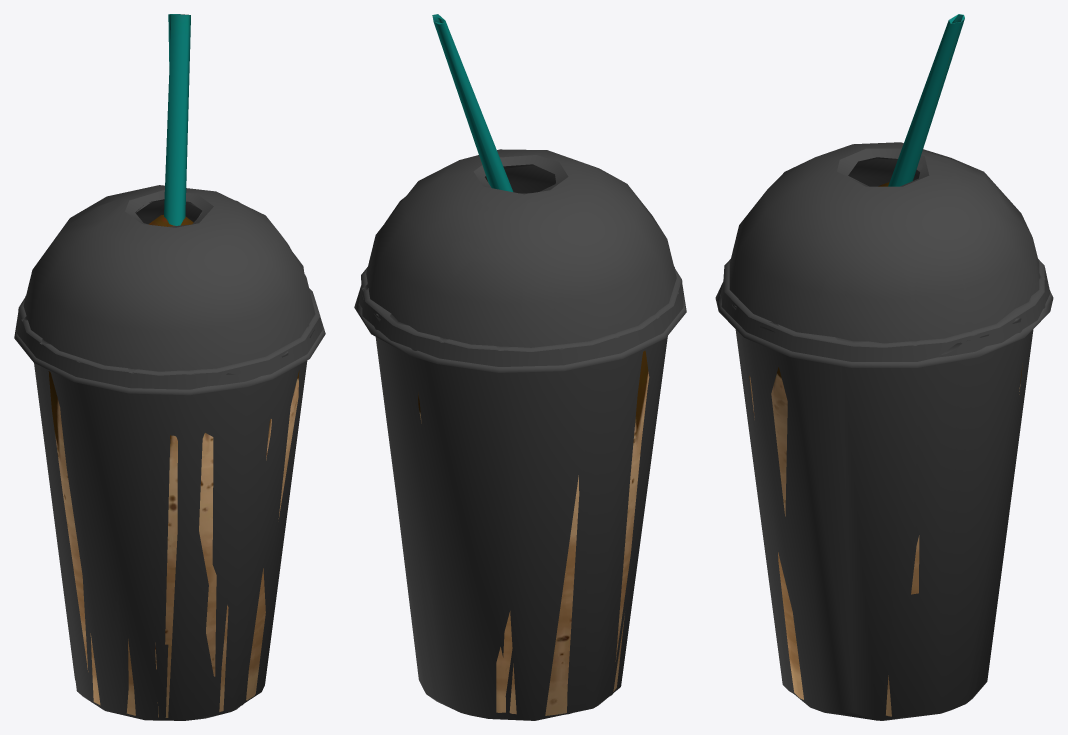
File: creamed_coffee.glb
The picture shows the model from 3 angles, left to right: view 1: azimuth 30°, elevation 25°; view 2: azimuth 150°, elevation 25°; view 3: azimuth 270°, elevation 25°; orthographic projection. The views are drawn at different scales.
Parts seen in each view (by area): view 1: Cup_l_Cup_0, Coffee_l_Coffee_0; view 2: Cup_l_Cup_0, Coffee_l_Coffee_0; view 3: Cup_l_Cup_0, Coffee_l_Coffee_0.
Part boxes in pixels (x1=…): Cup_l_Cup_0: x1=14, y1=185, x2=325, y2=720; Coffee_l_Coffee_0: x1=48, y1=14, x2=299, y2=717; Cup_l_Cup_0: x1=354, y1=149, x2=686, y2=720; Coffee_l_Coffee_0: x1=418, y1=14, x2=649, y2=715; Cup_l_Cup_0: x1=715, y1=142, x2=1053, y2=720; Coffee_l_Coffee_0: x1=749, y1=14, x2=1022, y2=716.
Bounding box in the file's own units: 0.0929 × 0.2094 × 0.0938.
Materials: 2 (2 with a texture image).
